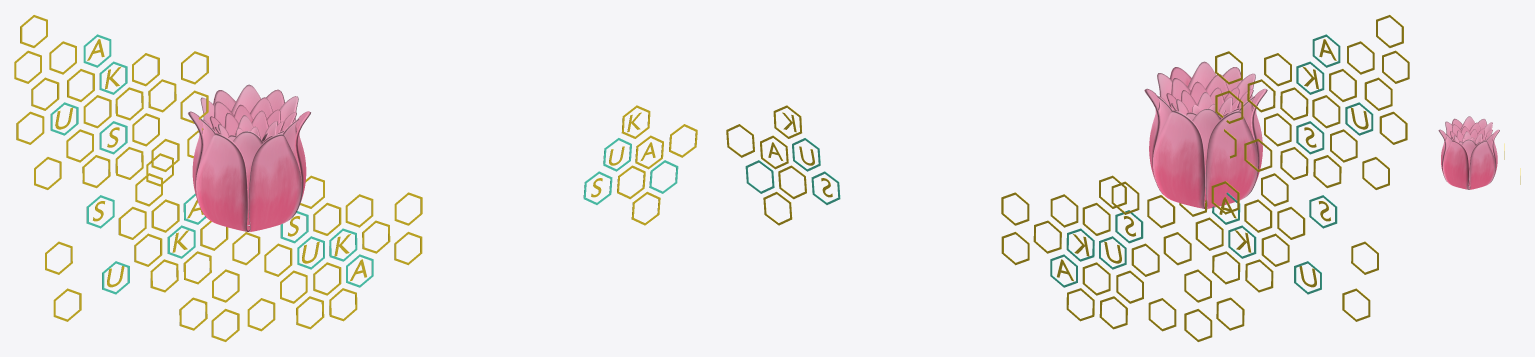
File: intro.glb
3 views of the same model, side by side, from view 1: azimuth 30°, elevation 25°; view 2: azimuth 150°, elevation 25°; view 3: azimuth 270°, elevation 25° (orthographic). The views are drawn at different scales.
Parts seen in each view (by area): view 1: Sphere.001, Sphere.016, Text, Sphere.008, Sphere.017, Sphere.015; view 2: Sphere.014, Sphere.015, Text, Sphere.021, Sphere.016, Sphere.018; view 3: Sphere.018, Sphere.017, Sphere.019, Sphere.014, Sphere.001, Sphere.007, Sphere.008.
Part boxes in pixels (<box>): Sphere.001: <box>248,133,301,232</box>; Sphere.016: <box>196,133,249,231</box>; Text: <box>55,39,655,287</box>; Sphere.008: <box>233,131,262,224</box>; Sphere.017: <box>289,111,310,219</box>; Sphere.015: <box>188,111,205,216</box>; Sphere.014: <box>1153,110,1205,208</box>; Sphere.015: <box>1205,110,1258,208</box>; Text: <box>768,39,1368,287</box>; Sphere.021: <box>1192,108,1220,201</box>; Sphere.016: <box>1246,88,1267,196</box>; Sphere.018: <box>1144,88,1162,193</box>; Sphere.018: <box>1469,140,1495,189</box>; Sphere.017: <box>1442,140,1469,189</box>; Sphere.019: <box>1461,139,1476,186</box>; Sphere.014: <box>1490,129,1499,182</box>; Sphere.001: <box>1438,129,1446,181</box>; Sphere.007: <box>1460,116,1474,130</box>; Sphere.008: <box>1445,121,1452,140</box>.
Size of the model in its own units: 21.59 by 11.53 by 4.5.
11 materials, 1 textured.
